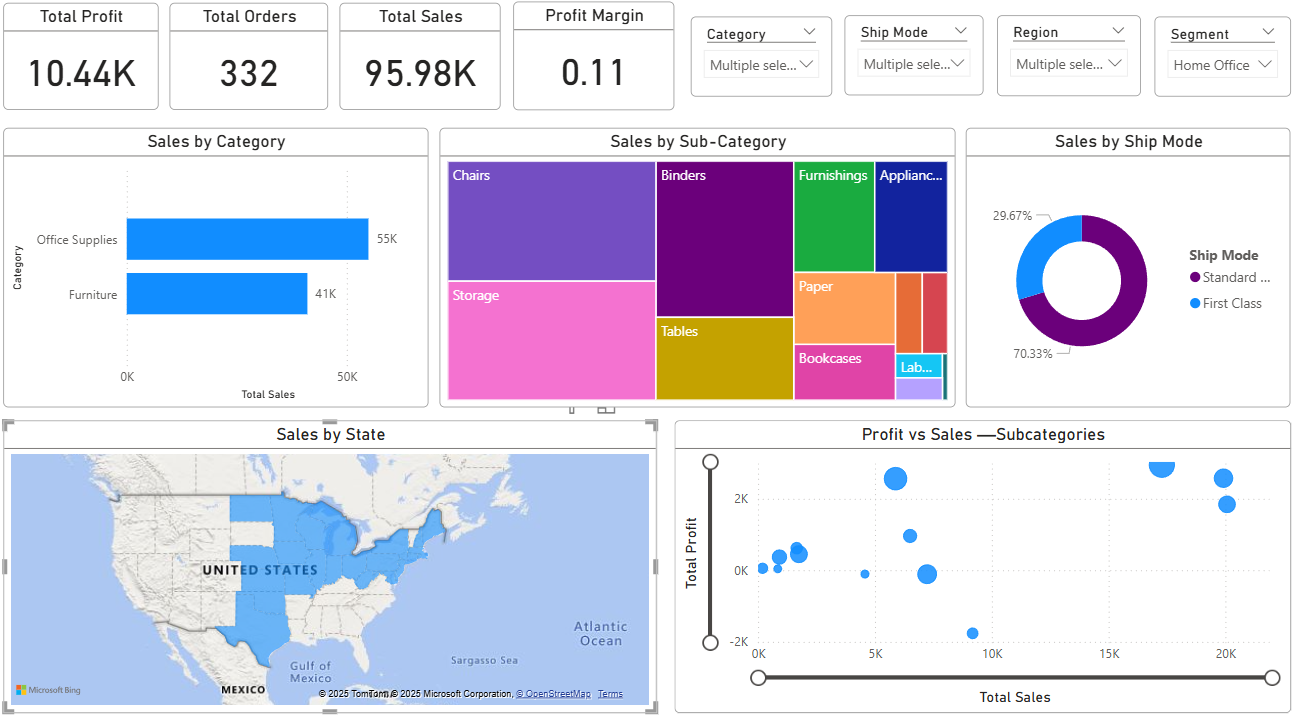

This screenshot's page, from the dashboard's own definition file:
{"tool":"powerbi","page":{"name":"Superstore Dashboard","canvas":[1280,720],"ordinal":0},"visuals":[{"type":"card","title":"Total Profit","fields":{"Values":["Sample - Superstore.Total Profit"]},"box":[11,13.5,151.6,105.2],"z":0},{"type":"card","title":"Total Sales","fields":{"Values":["Sample - Superstore.Total Sales"]},"box":[339.9,13.5,157.7,105.2],"z":1},{"type":"card","title":"Profit Margin","fields":{"Values":["Sample - Superstore.Profit Margin"]},"box":[509.9,12.2,157.7,106.4],"z":2},{"type":"card","title":"Total Orders","fields":{"Values":["Sample - Superstore.Total Orders"]},"box":[173.6,13.5,155.3,105.2],"z":3},{"type":"slicer","fields":{"Values":["Sample - Superstore.Category"]},"box":[683.6,26.9,138.2,78.3],"z":4},{"type":"slicer","fields":{"Values":["Sample - Superstore.Ship Mode"]},"box":[834,25.7,135.7,78.3],"z":5},{"type":"slicer","fields":{"Values":["Sample - Superstore.Region"]},"box":[983.2,25.7,140.6,79.5],"z":6},{"type":"slicer","fields":{"Values":["Sample - Superstore.Segment"]},"box":[1137.2,26.9,133.3,78.3],"z":7},{"type":"scatterChart","title":"Profit vs Sales —Subcategories","fields":{"X":["Sample - Superstore.Total Sales"],"Y":["Sample - Superstore.Total Profit"],"Category":["Sample - Superstore.Sub-Category"],"Size":["Sum(Sample - Superstore.Quantity)"]},"box":[667.7,421.9,602.9,286.1],"z":8},{"type":"filledMap","title":"Sales by State","fields":{"Category":["Sample - Superstore.State"]},"box":[11,421.9,639.5,286.1],"z":9},{"type":"treemap","title":"Sales by Sub-Category","fields":{"Group":["Sample - Superstore.Sub-Category"],"Values":["Sample - Superstore.Total Sales"]},"box":[437.8,135.7,505,273.9],"z":10},{"type":"clusteredBarChart","title":" Sales by Category","fields":{"Category":["Sample - Superstore.Category"],"Y":["Sample - Superstore.Total Sales"]},"box":[11,135.7,415.8,273.9],"z":11},{"type":"donutChart","title":" Sales by Ship Mode","fields":{"Category":["Sample - Superstore.Ship Mode"],"Y":["Sample - Superstore.Total Sales"]},"box":[952.6,135.7,317.9,273.9],"z":12}]}

Visuals, with their boxes in screenshot pixels (x1, y1, x2, y2), scaled from the page's 1280x720 canvas onto the 1297x720 screenshot:
"Total Profit" card: {"left": 11, "top": 14, "right": 165, "bottom": 119}
"Total Sales" card: {"left": 344, "top": 14, "right": 504, "bottom": 119}
"Profit Margin" card: {"left": 517, "top": 12, "right": 676, "bottom": 119}
"Total Orders" card: {"left": 176, "top": 14, "right": 333, "bottom": 119}
slicer - Sample - Superstore.Category: {"left": 693, "top": 27, "right": 833, "bottom": 105}
slicer - Sample - Superstore.Ship Mode: {"left": 845, "top": 26, "right": 983, "bottom": 104}
slicer - Sample - Superstore.Region: {"left": 996, "top": 26, "right": 1139, "bottom": 105}
slicer - Sample - Superstore.Segment: {"left": 1152, "top": 27, "right": 1287, "bottom": 105}
"Profit vs Sales —Subcategories" scatterChart: {"left": 677, "top": 422, "right": 1287, "bottom": 708}
"Sales by State" filledMap: {"left": 11, "top": 422, "right": 659, "bottom": 708}
"Sales by Sub-Category" treemap: {"left": 444, "top": 136, "right": 955, "bottom": 410}
" Sales by Category" clusteredBarChart: {"left": 11, "top": 136, "right": 432, "bottom": 410}
" Sales by Ship Mode" donutChart: {"left": 965, "top": 136, "right": 1287, "bottom": 410}
